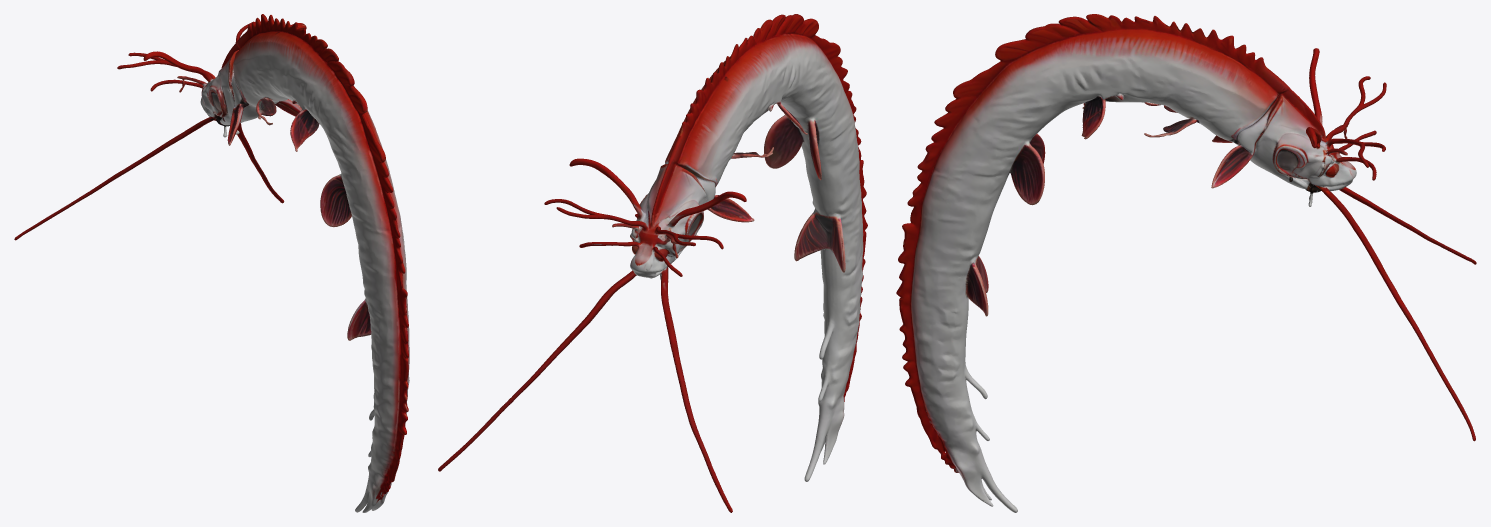
The model's file is oar_a.glb.
3 renders of one model, left to right at view 1: azimuth 30°, elevation 25°; view 2: azimuth 150°, elevation 25°; view 3: azimuth 270°, elevation 25°, orthographic. The views are drawn at different scales.
Visible parts, largest first — view 1: tripo_node_6bf664f2-8ba9-4079-8a8e-7b9bbbb0f0b8; view 2: tripo_node_6bf664f2-8ba9-4079-8a8e-7b9bbbb0f0b8; view 3: tripo_node_6bf664f2-8ba9-4079-8a8e-7b9bbbb0f0b8.
Part boxes in pixels (x1,y1,x2,y2): tripo_node_6bf664f2-8ba9-4079-8a8e-7b9bbbb0f0b8: [14, 14, 409, 512]; tripo_node_6bf664f2-8ba9-4079-8a8e-7b9bbbb0f0b8: [438, 14, 867, 512]; tripo_node_6bf664f2-8ba9-4079-8a8e-7b9bbbb0f0b8: [896, 14, 1476, 512].
Size of the model in its own units: 0.5993 by 0.9496 by 1.
1 material, 1 textured.
